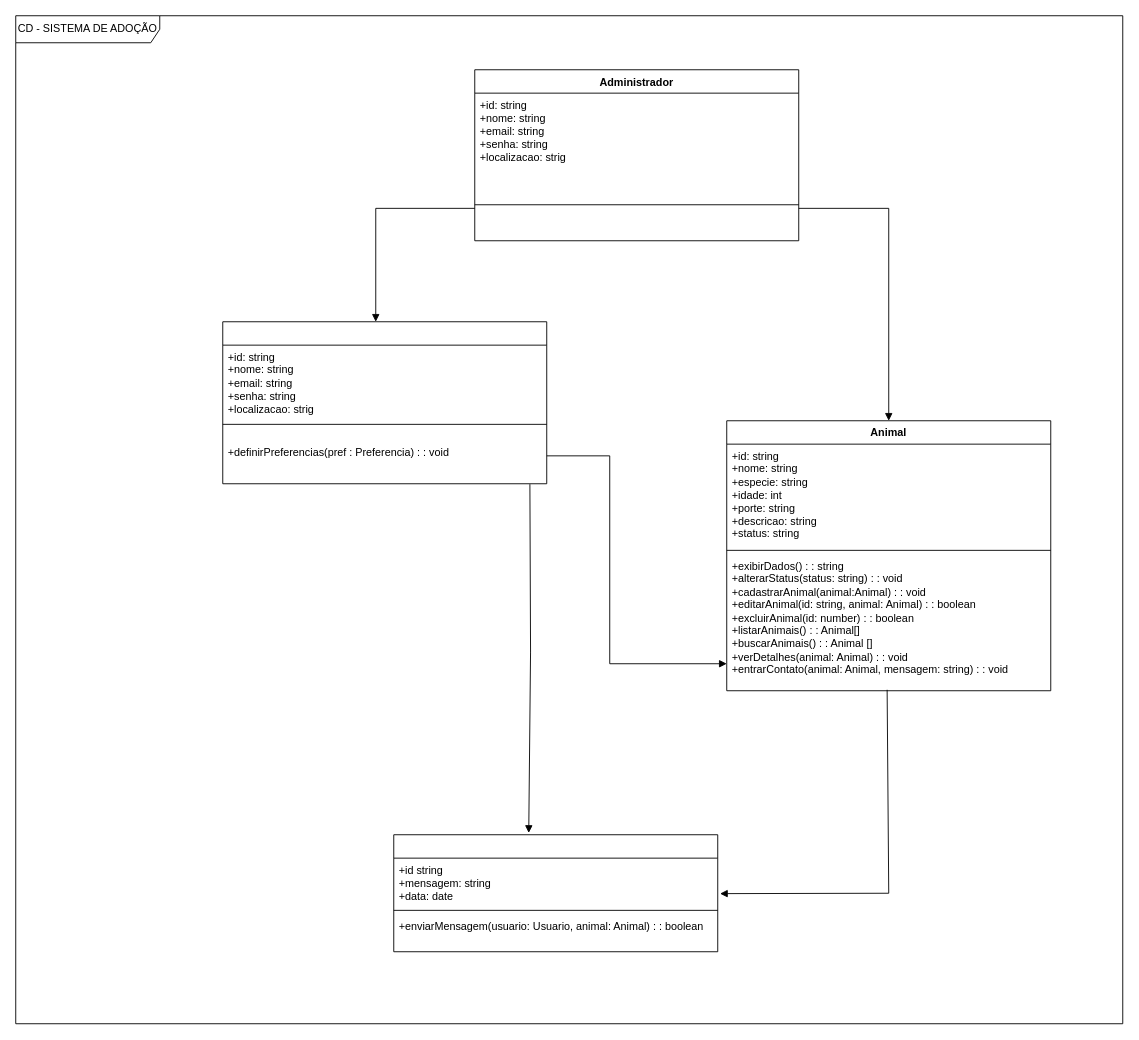
Image size: 1139x1040. Some labels were removed from this diagram. Here are the shapes that lost their labels. From the top down, the box of each, then its label:
(222, 321, 547, 484): Usuário
(393, 834, 718, 952): Contato
